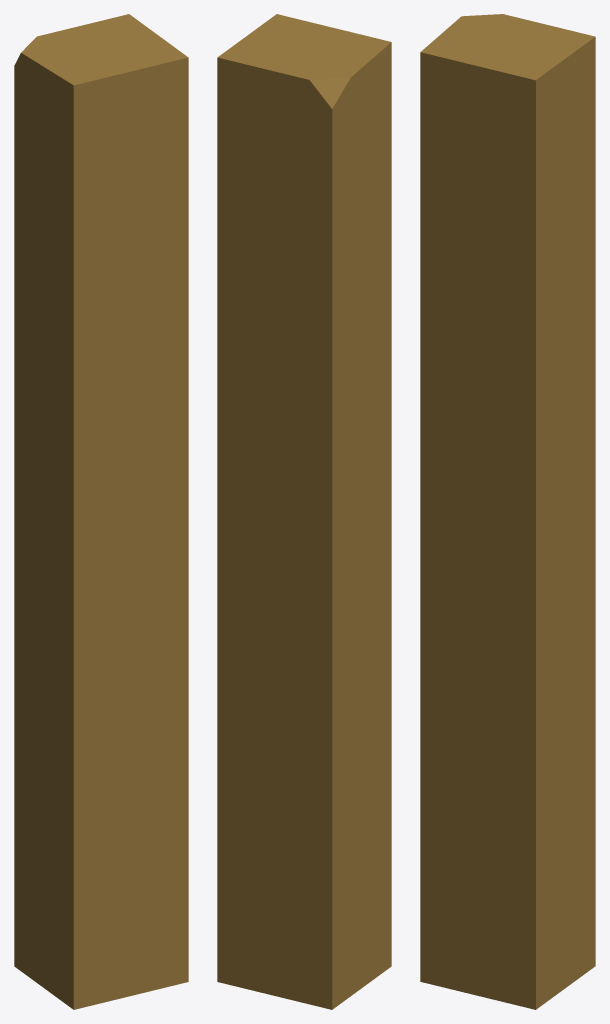
File: SM_WFence_6.fbx
3 renders of one model, left to right at view 1: azimuth 30°, elevation 25°; view 2: azimuth 150°, elevation 25°; view 3: azimuth 330°, elevation 25°, orthographic.
Visible parts, largest first — view 1: Object026; view 2: Object026; view 3: Object026.
Part boxes in pixels (x1,y1,x2,y2): Object026: (14,14,188,1009); Object026: (217,14,391,1009); Object026: (420,14,595,1009).
Size of the model in its own units: 14.45 by 106 by 12.32.
